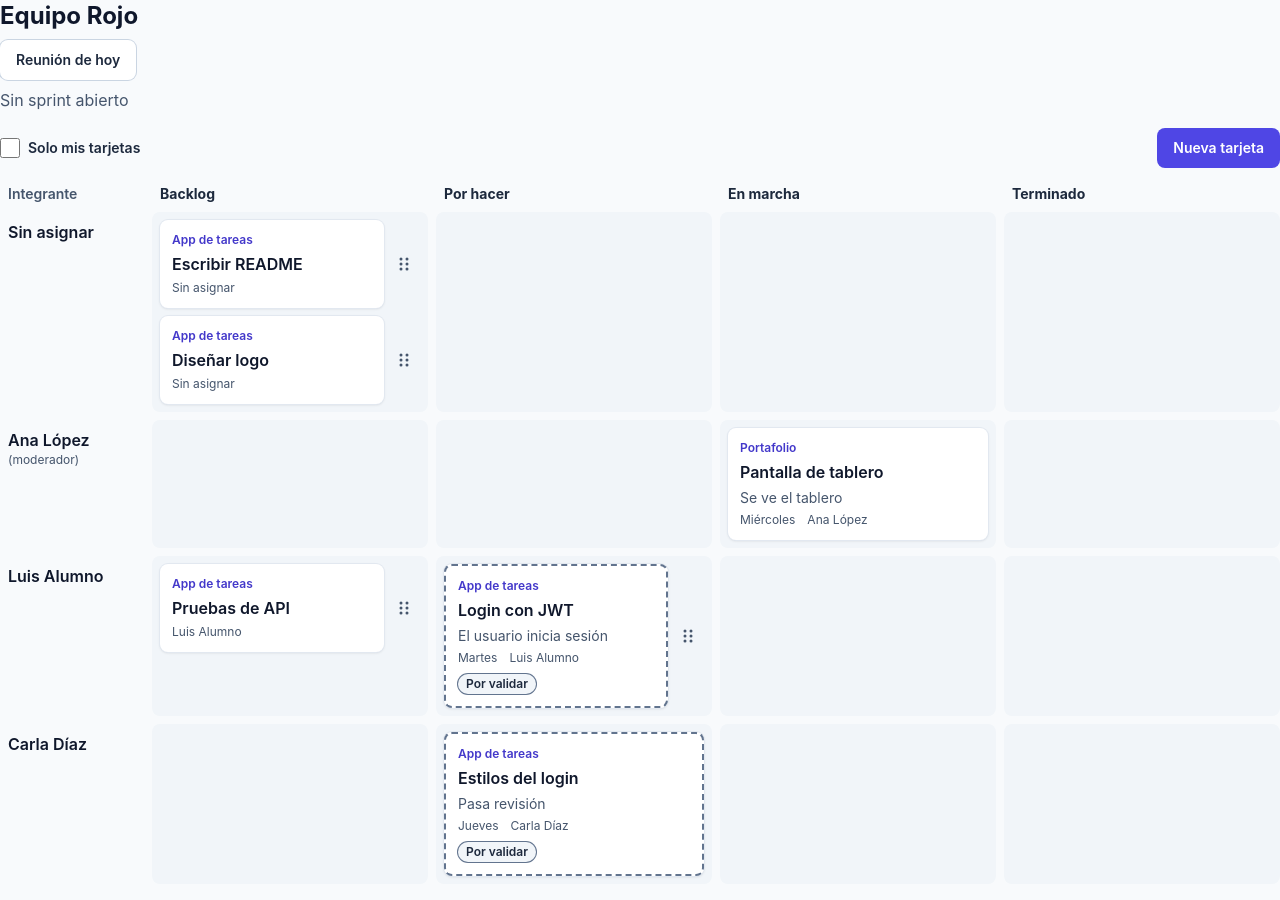
Test case: CardDialog: create › creates a backlog card with a client id and the form fields
Click the button "Nueva tarjeta" at (1219, 148), box [1157, 128, 1279, 168]
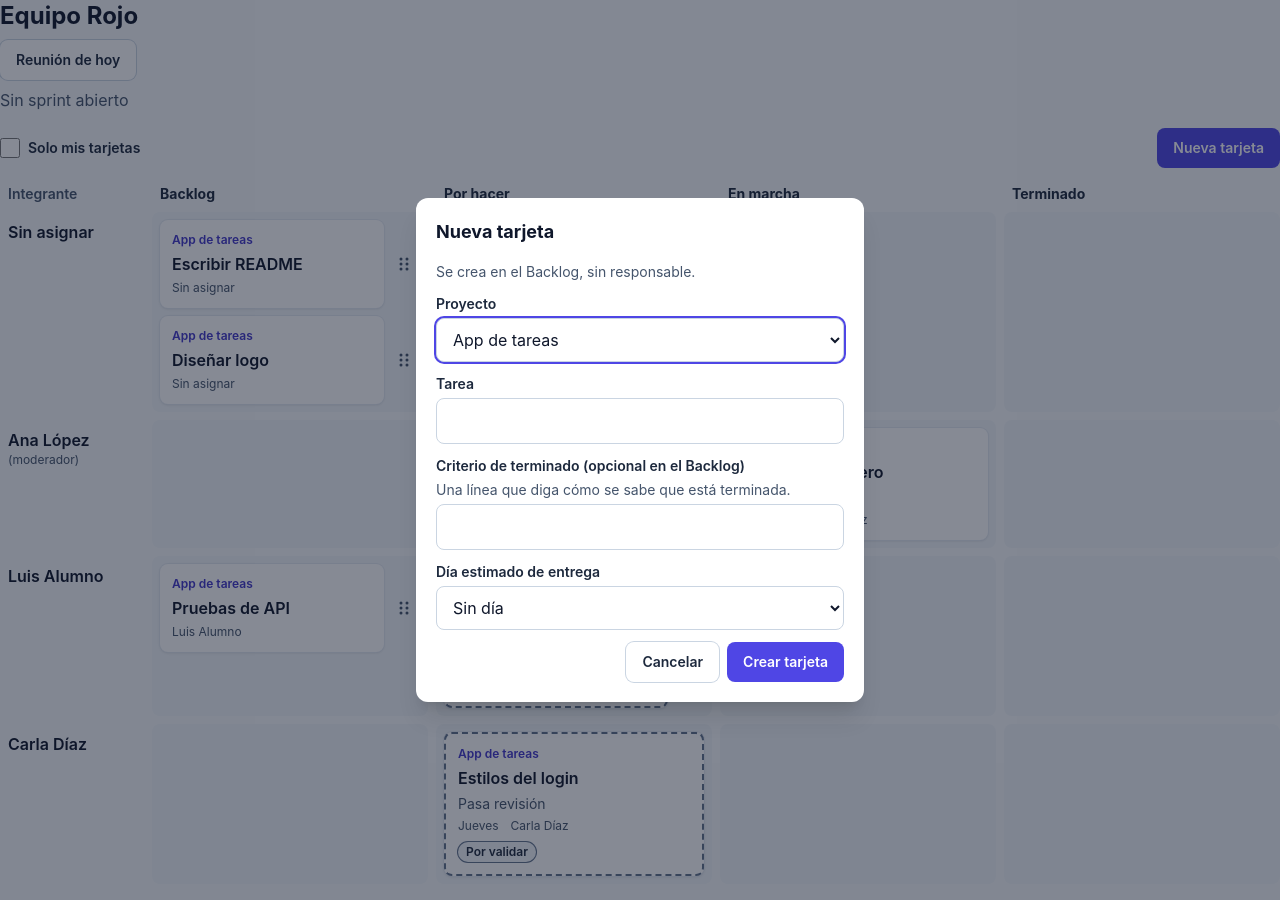
Select "Portafolio" in the dropdown labelled "Proyecto" at (640, 340), box [436, 318, 844, 362]
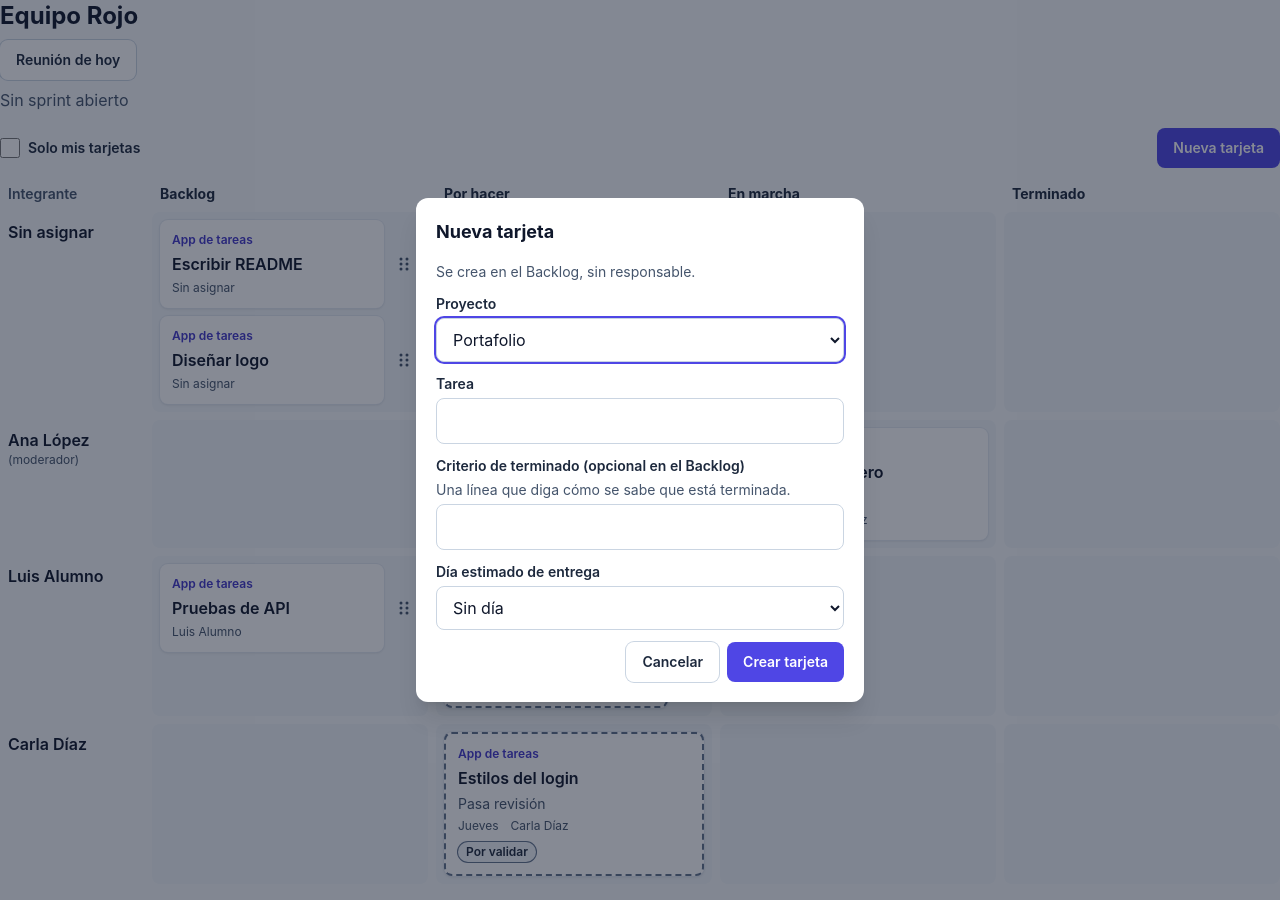
Type "  Página de contacto " into the field labelled "Tarea" at (640, 421), box [436, 398, 844, 444]
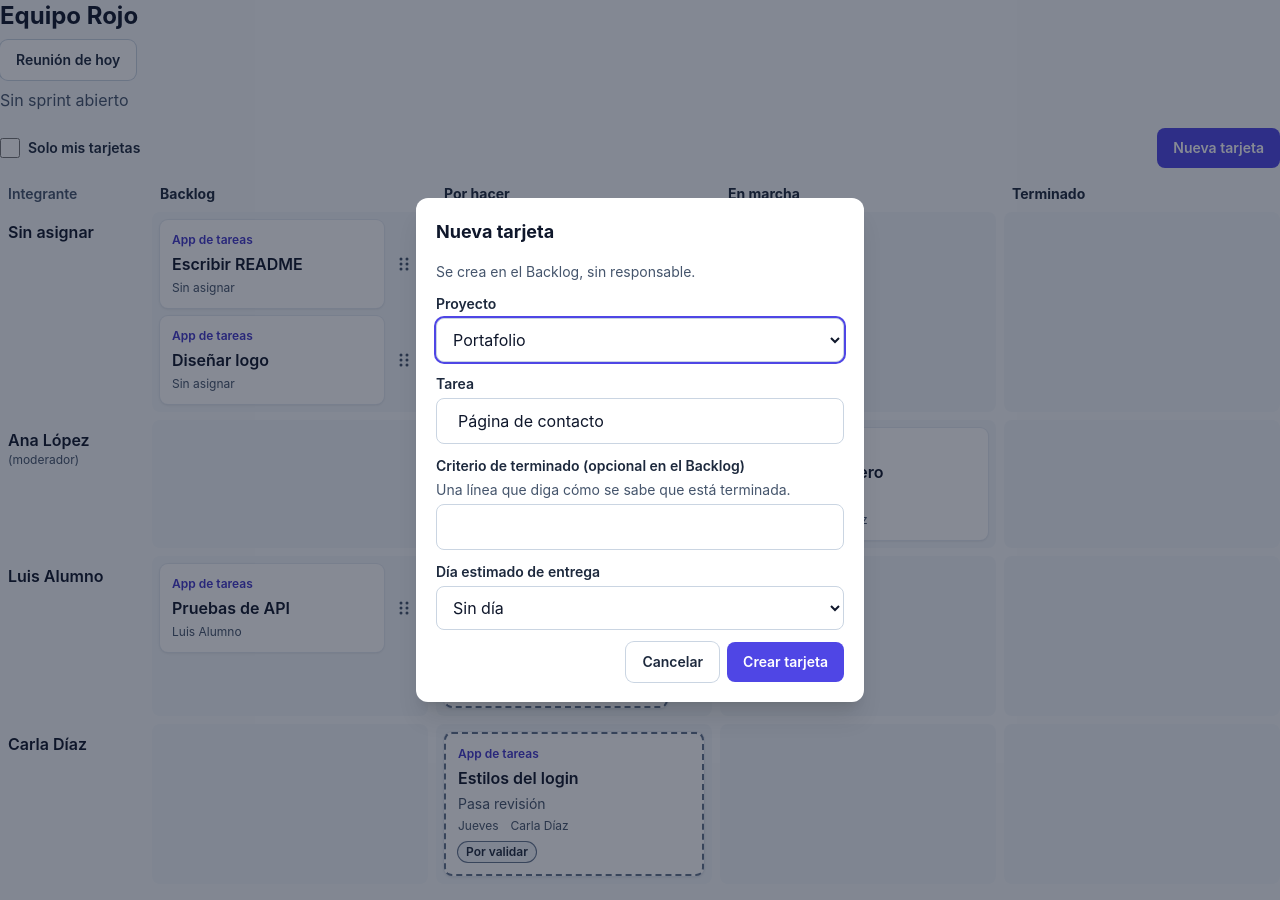
Type "Se envía el formulario" into the field labelled "Criterio de terminado (opcional en el Backlog)" at (640, 527), box [436, 504, 844, 550]
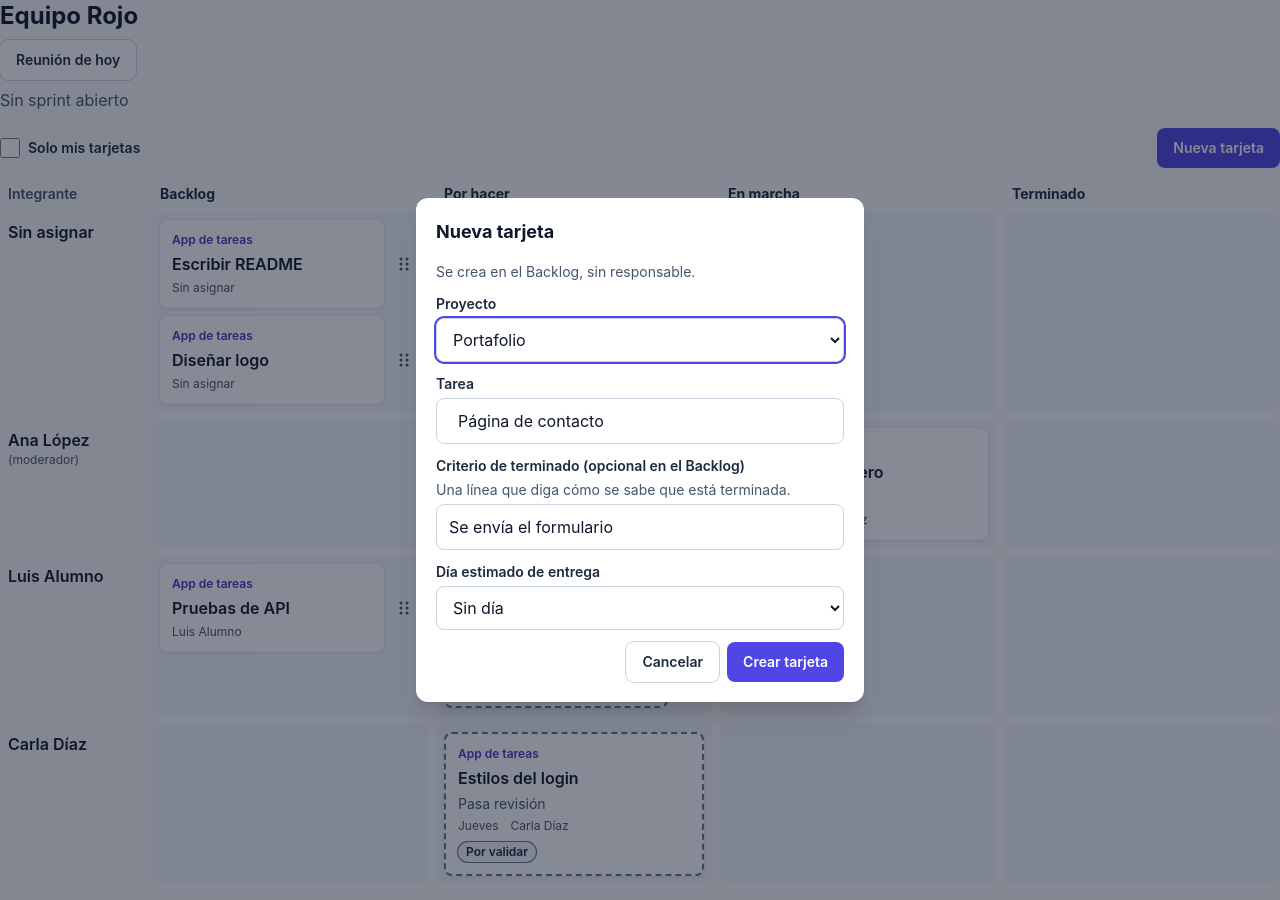
Select "Jueves" in the dropdown labelled "Día estimado de entrega" at (640, 608), box [436, 586, 844, 630]
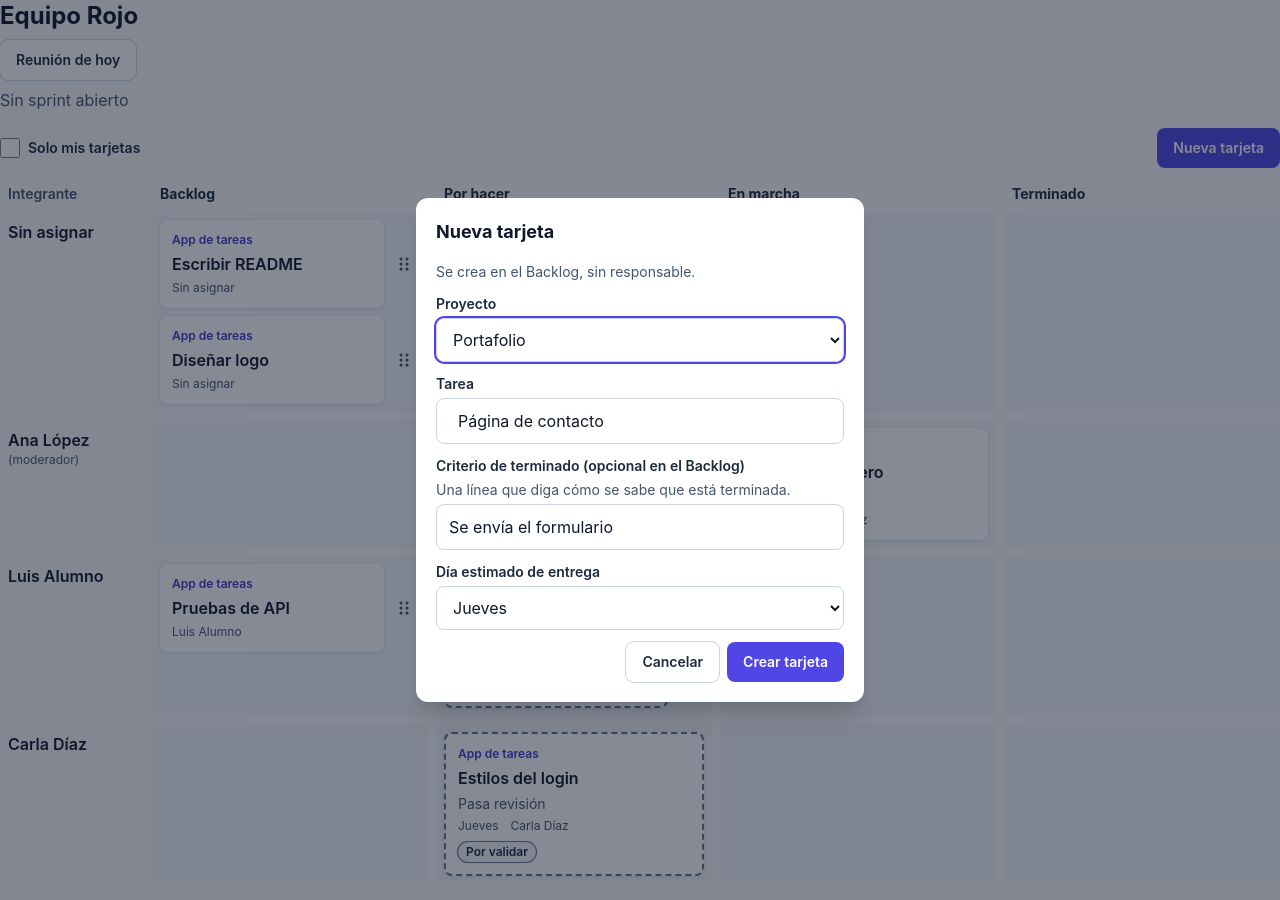
Click the button "Crear tarjeta" at (786, 662), box [727, 642, 844, 682]
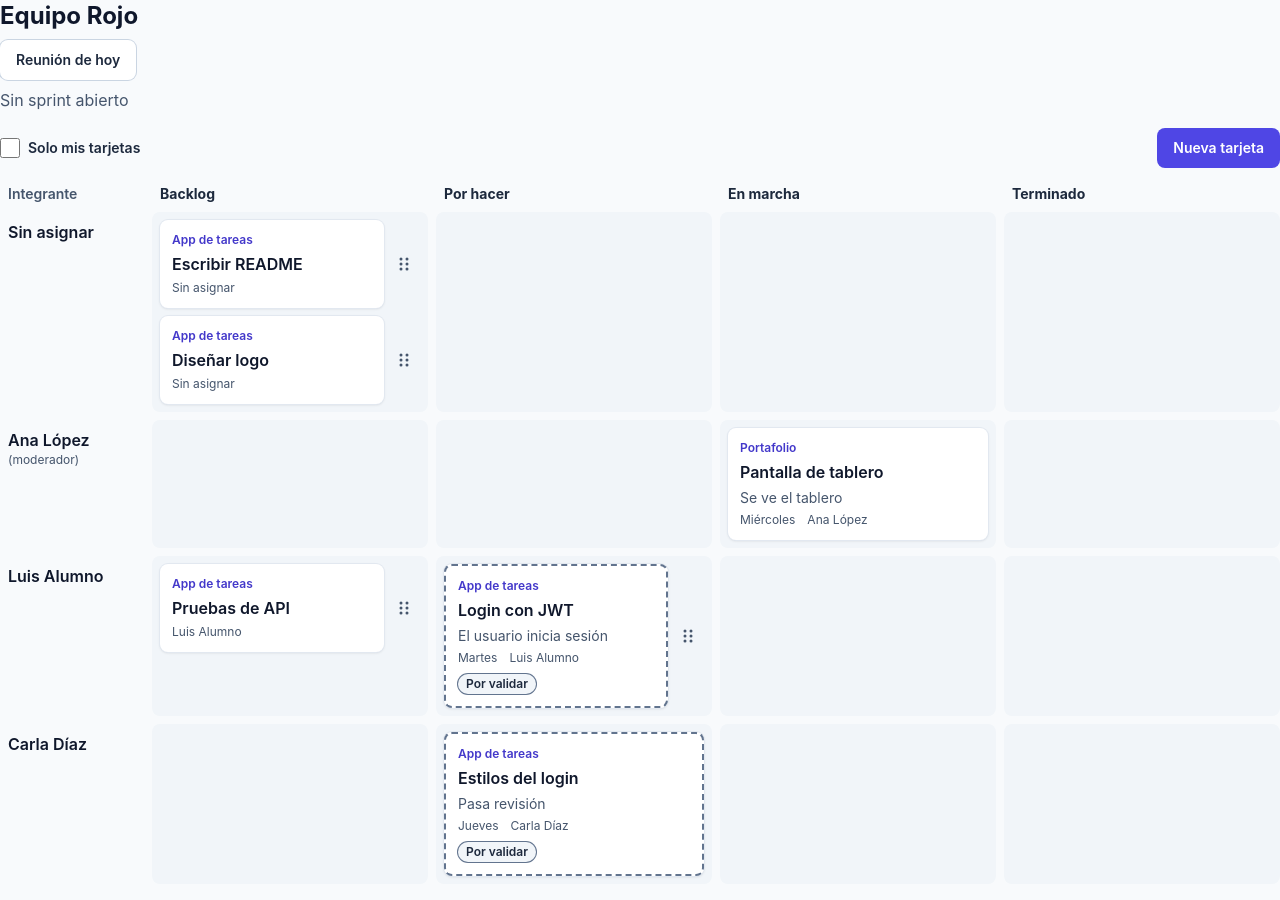
Now the dialog is gone
